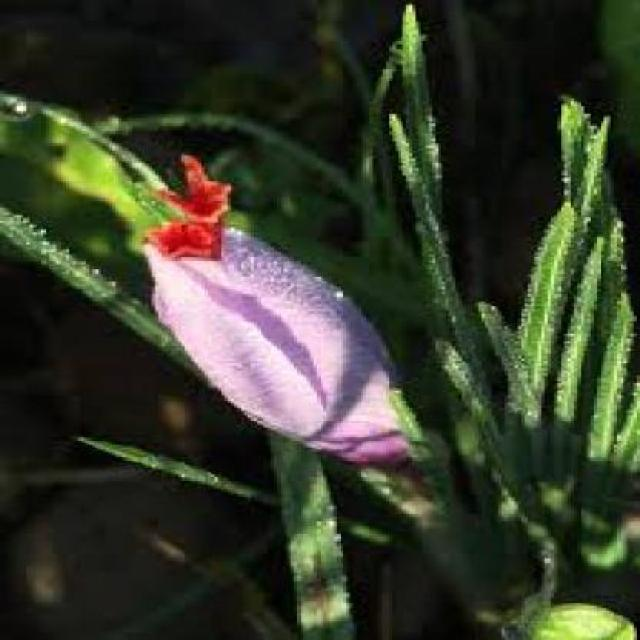Flower: (120, 216, 451, 472)
